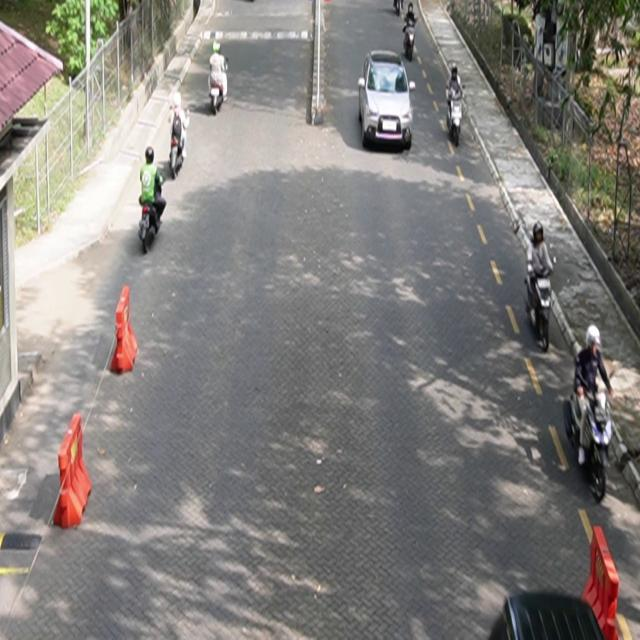car: (358, 50, 417, 152)
